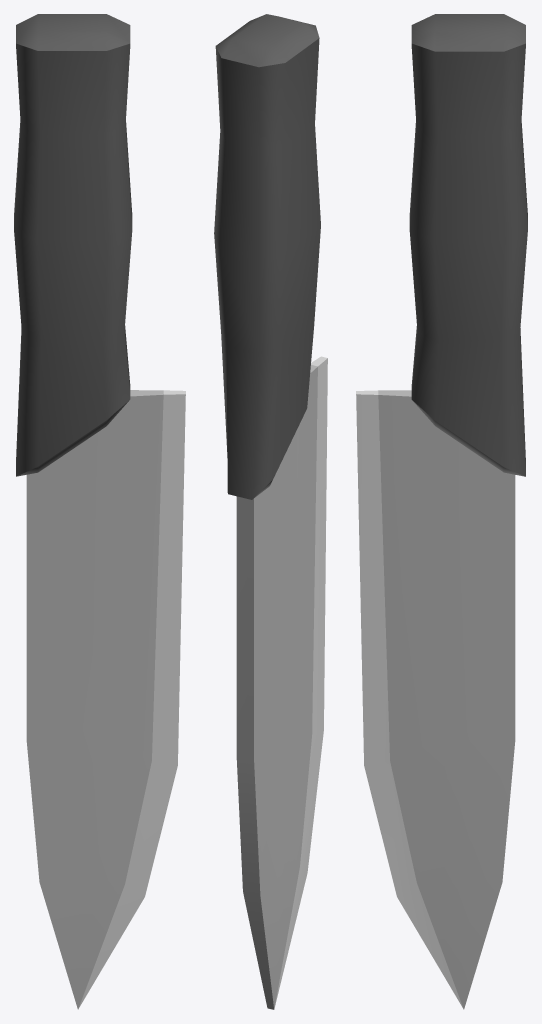
Rendered from SM_Kitchen_Knife_M.fbx.
3 views of the same model, side by side, from view 1: azimuth 90°, elevation 25°; view 2: azimuth 150°, elevation 25°; view 3: azimuth 270°, elevation 25° (orthographic).
Visible parts, largest first — view 1: SM_Kitchen_Knife_M; view 2: SM_Kitchen_Knife_M; view 3: SM_Kitchen_Knife_M.
Part boxes in pixels (x1,y1,x2,y2): SM_Kitchen_Knife_M: (14, 14, 185, 1009); SM_Kitchen_Knife_M: (214, 14, 327, 1009); SM_Kitchen_Knife_M: (356, 14, 527, 1009).
Size of the model in its own units: 0.0206 by 0.2686 by 0.0424.
